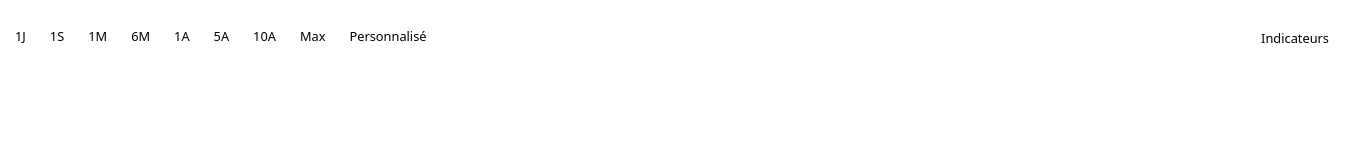
Test case: sur téléphone, les indicateurs sont dans un menu et les périodes défilent
Expected: the checkbox labelled "RSI" is not shown
What coordinates should you click on to do the following:
click the button "Indicateurs"
I would click on:
 (1295, 38)
Its box is [1251, 16, 1339, 60].
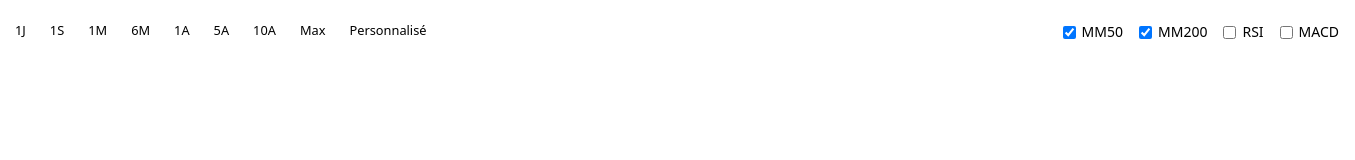
Now the checkbox labelled "RSI" is shown, box [1223, 26, 1236, 38]
